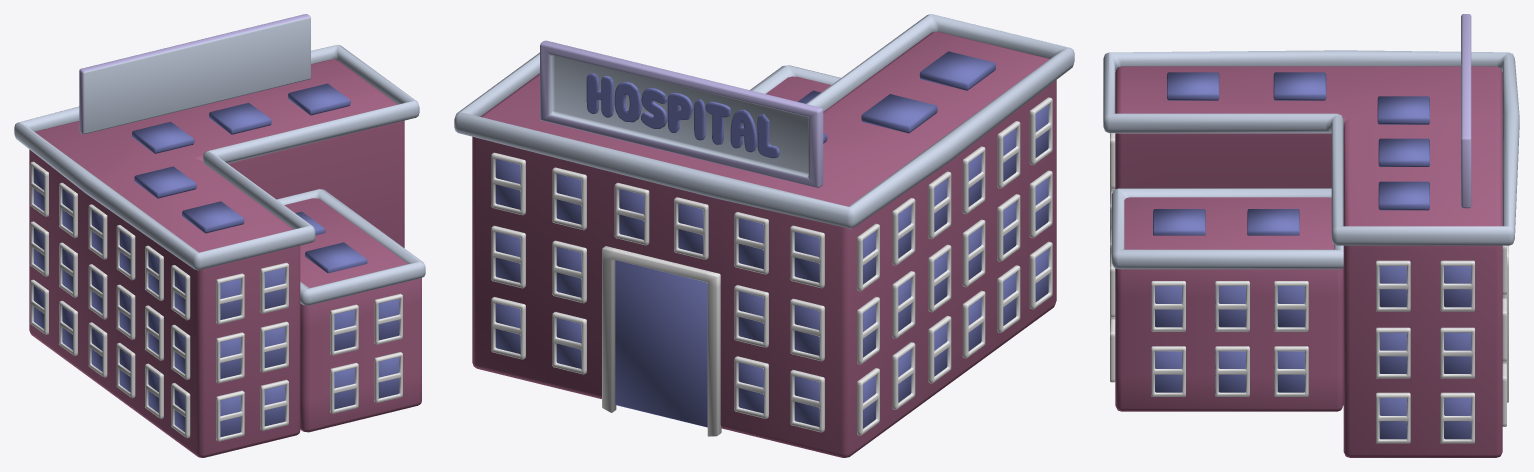
The model's file is Hospital.fbx.
3 renders of one model, left to right at view 1: azimuth 30°, elevation 25°; view 2: azimuth 150°, elevation 25°; view 3: azimuth 270°, elevation 25°, orthographic. The views are drawn at different scales.
Parts seen in each view (by area): view 1: Plane.986, Plane.1007, Plane.1008, Plane.1010, Plane.1009, Plane.1106, Plane.1107, Plane.1103, Plane.1104, Plane.1105, Plane.1102, Plane.1005 (+37 smaller); view 2: Plane.986, Plane.1010, Plane.1007, Plane.1087, Text.005, Plane.1088, Plane.1103, Plane.1104, Plane.1081, Plane.1085, Plane.1059, Plane.1067 (+44 smaller); view 3: Plane.986, Plane.1008, Plane.1010, Plane.1009, Plane.1007, Plane.1103, Plane.1107, Plane.1104, Plane.1105, Plane.1106, Plane.1101, Plane.1102 (+24 smaller).
Part boxes in pixels (box(x1,y1,x2,y2)): Plane.986: box(29, 59, 404, 457); Plane.1007: box(79, 14, 310, 134); Plane.1008: box(284, 198, 421, 432); Plane.1010: box(14, 44, 419, 270); Plane.1009: box(276, 189, 425, 305); Plane.1106: box(209, 102, 271, 134); Plane.1107: box(288, 83, 350, 115); Plane.1103: box(134, 166, 196, 198); Plane.1104: box(182, 201, 244, 233); Plane.1105: box(132, 121, 194, 153); Plane.1102: box(305, 242, 367, 273); Plane.1005: box(260, 379, 288, 430); Plane.986: box(472, 31, 1056, 457); Plane.1010: box(454, 14, 1074, 228); Plane.1007: box(540, 40, 823, 187); Plane.1087: box(615, 260, 707, 427); Text.005: box(586, 73, 779, 158); Plane.1088: box(602, 246, 721, 436); Plane.1103: box(861, 94, 937, 133); Plane.1104: box(919, 51, 995, 90); Plane.1081: box(614, 182, 649, 245); Plane.1085: box(491, 152, 525, 215); Plane.1059: box(790, 298, 824, 361); Plane.1067: box(552, 240, 586, 303); Plane.986: box(1115, 66, 1502, 457); Plane.1008: box(1115, 197, 1343, 411); Plane.1010: box(1103, 50, 1519, 245); Plane.1009: box(1111, 188, 1343, 269); Plane.1007: box(1461, 14, 1471, 208); Plane.1103: box(1273, 72, 1326, 100); Plane.1107: box(1378, 181, 1429, 210); Plane.1104: box(1167, 72, 1219, 100); Plane.1105: box(1377, 96, 1429, 124); Plane.1106: box(1378, 138, 1429, 166); Plane.1101: box(1247, 209, 1299, 235); Plane.1102: box(1153, 209, 1205, 235).
Size of the model in its own units: 1597 by 1253 by 1552.
